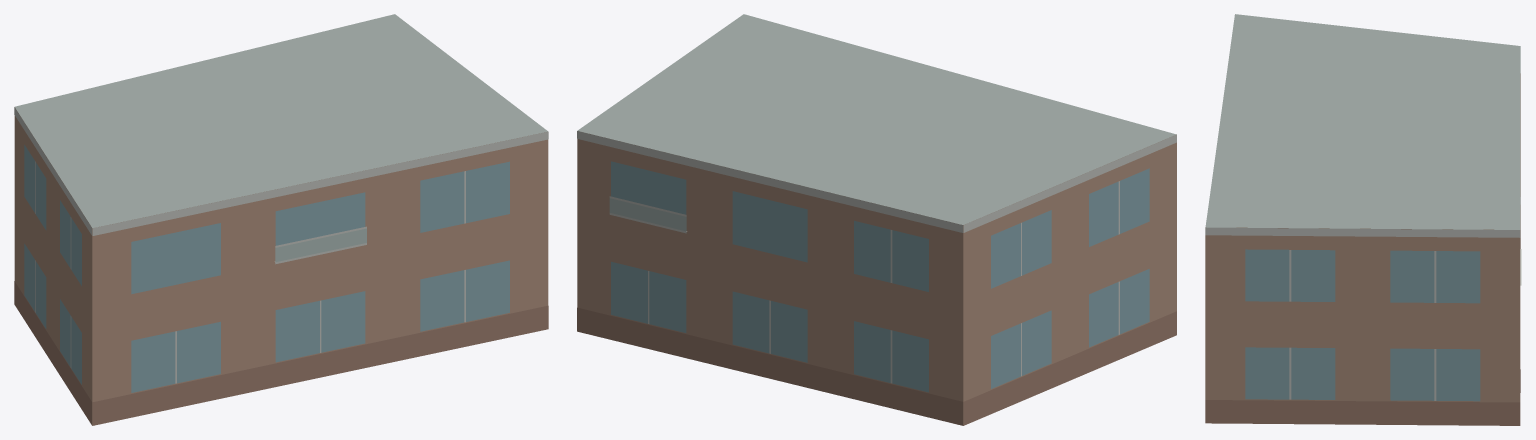
Rendered from survey-upis-32934424.glb.
The picture shows the model from 3 angles, left to right: view 1: azimuth 30°, elevation 25°; view 2: azimuth 150°, elevation 25°; view 3: azimuth 270°, elevation 25°; orthographic projection. The views are drawn at different scales.
Visible parts, largest first — view 1: survey-upis-32934424.tmp; view 2: survey-upis-32934424.tmp; view 3: survey-upis-32934424.tmp.
Boxes of the visible parts, left/top/right/bottom form: survey-upis-32934424.tmp: left=14, top=14, right=548, bottom=425; survey-upis-32934424.tmp: left=577, top=14, right=1176, bottom=425; survey-upis-32934424.tmp: left=1205, top=14, right=1521, bottom=425.
Size of the model in its own units: 14.43 by 6.1 by 8.93.
